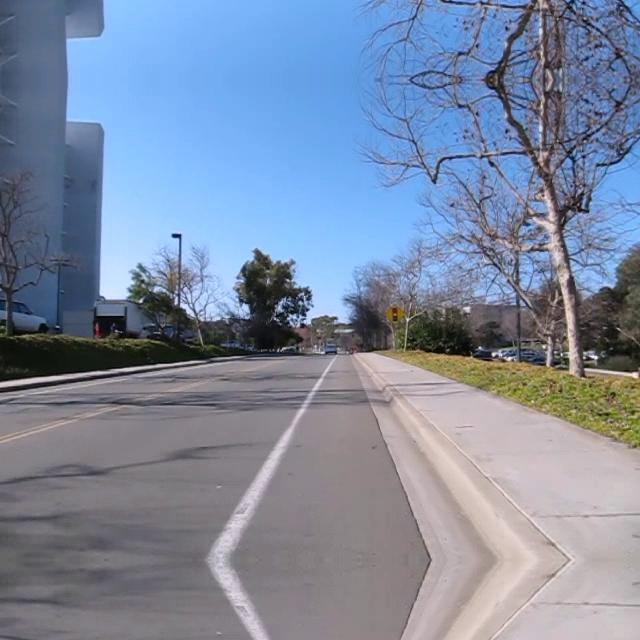signalAhead: (382, 303, 406, 325)
